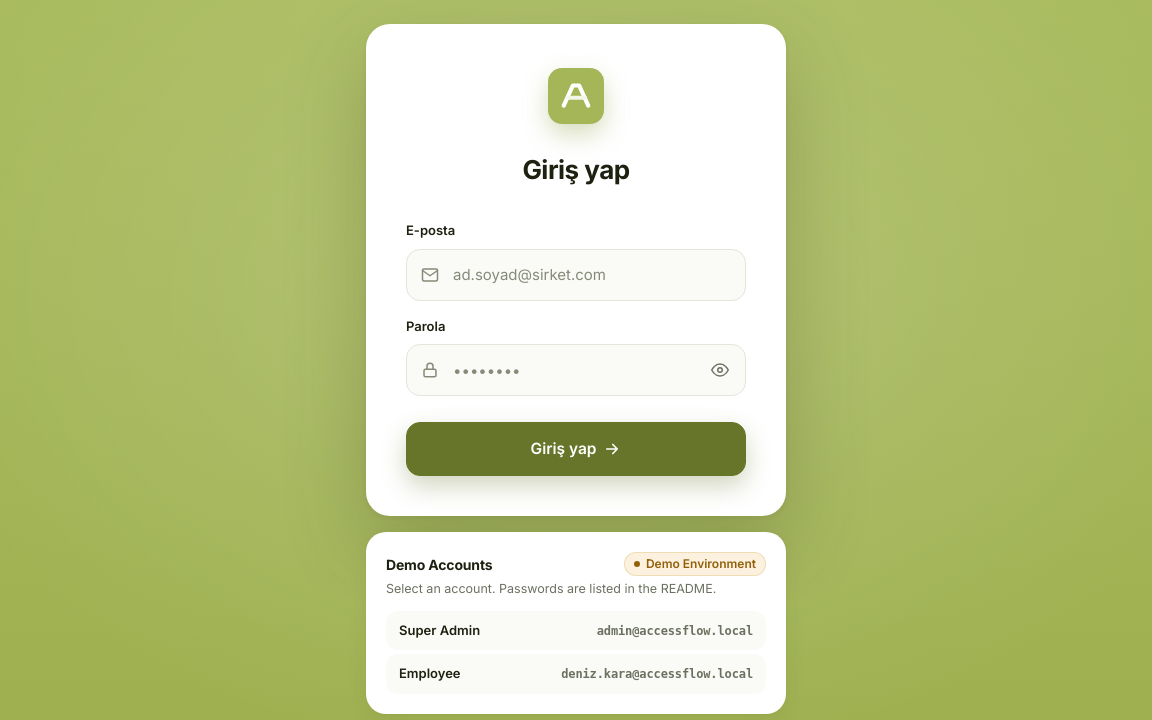
Scenario: sign-in page › in demo mode lists the demo accounts, fills the e-mail on click and shows no password
Expected: the text "Super Admin" is shown, [399,621,480,640]
Expected: the text "Select an account. Passwords are listed in the README." is shown, [386,580,766,599]
Click the button "Employee deniz.kara@accessflow.local" at (576, 674), box [386,654,766,694]
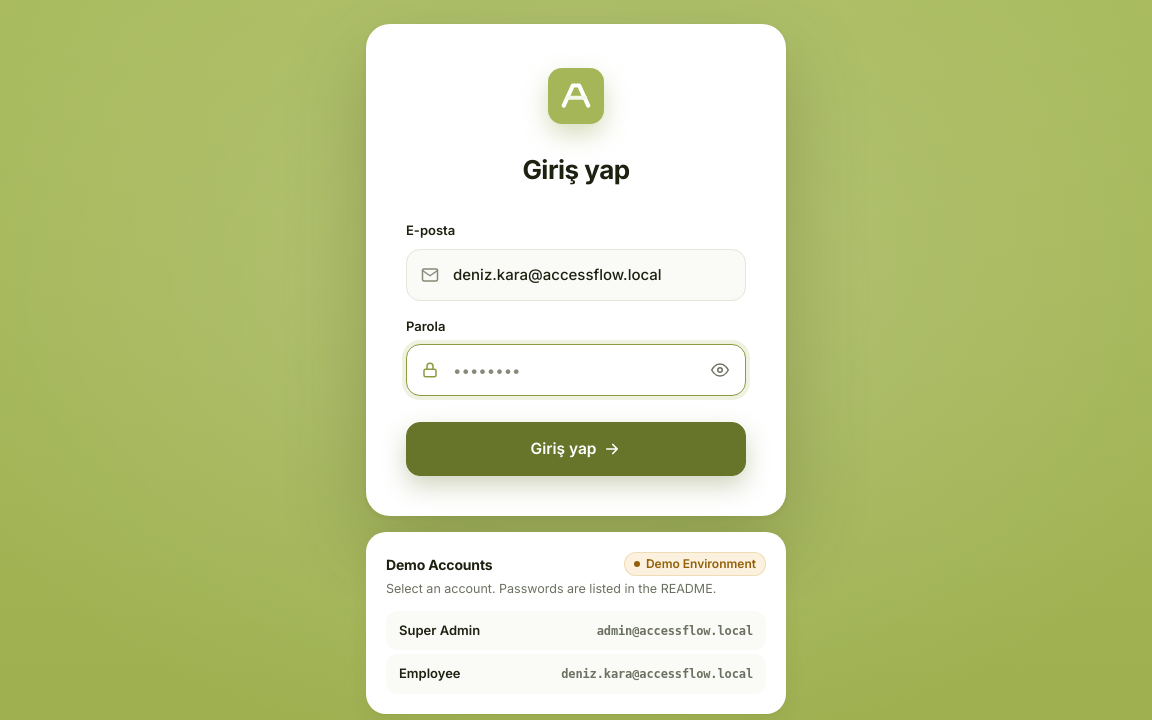
Expected: the field labelled "E-posta" holds "deniz.kara@accessflow.local", [406,248,746,300]
